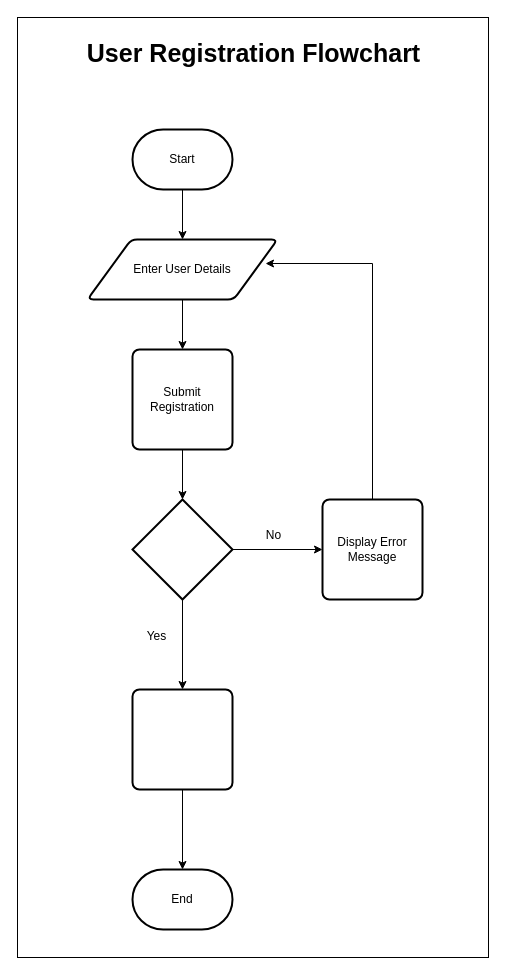
This 506x975 diagram has some shape labels left out. The box of each missing label's shape, as (x1, y1, x2, y2) in pixels:
Are Details Valid?: (131, 498, 233, 600)
Create Account: (131, 688, 233, 790)
